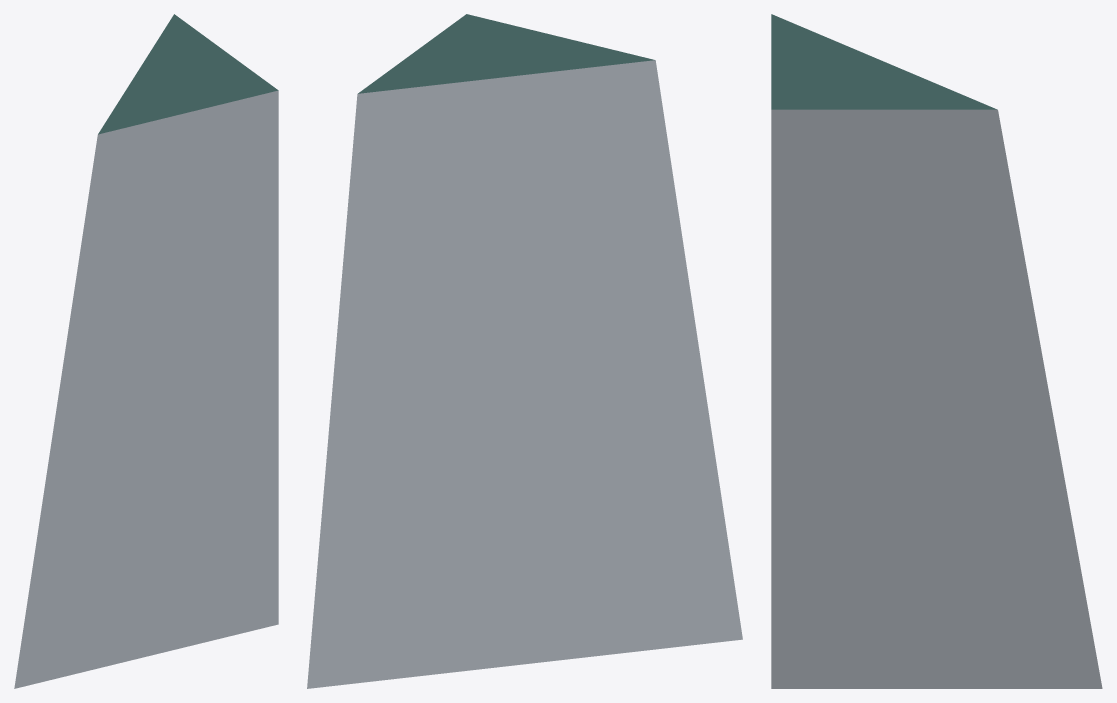
File: Grey_Cliff_Bottom_Corner_Green_Top_01.fbx
The picture shows the model from 3 angles, left to right: view 1: azimuth 30°, elevation 25°; view 2: azimuth 150°, elevation 25°; view 3: azimuth 270°, elevation 25°; orthographic projection. The views are drawn at different scales.
Parts seen in each view (by area): view 1: Mesh1_Grey_Cliff_Bottom_Corner_Green_Top Model; view 2: Mesh1_Grey_Cliff_Bottom_Corner_Green_Top Model; view 3: Mesh1_Grey_Cliff_Bottom_Corner_Green_Top Model.
Boxes of the visible parts, left/top/right/bottom form: Mesh1_Grey_Cliff_Bottom_Corner_Green_Top Model: left=14, top=14, right=278, bottom=688; Mesh1_Grey_Cliff_Bottom_Corner_Green_Top Model: left=307, top=14, right=742, bottom=688; Mesh1_Grey_Cliff_Bottom_Corner_Green_Top Model: left=771, top=14, right=1102, bottom=688.
Size of the model in its own units: 1.14 by 2.2 by 1.14.
